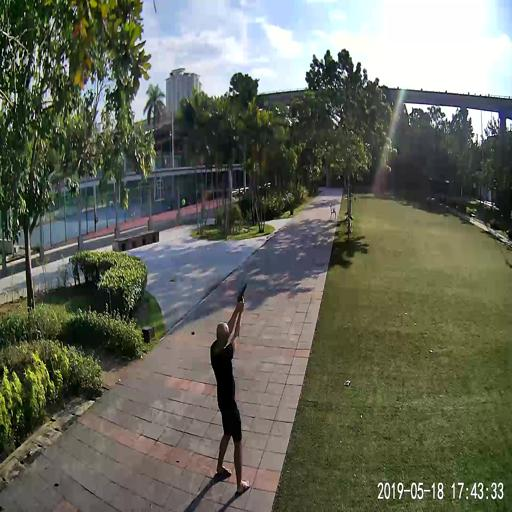pistol: (236, 282, 247, 303)
